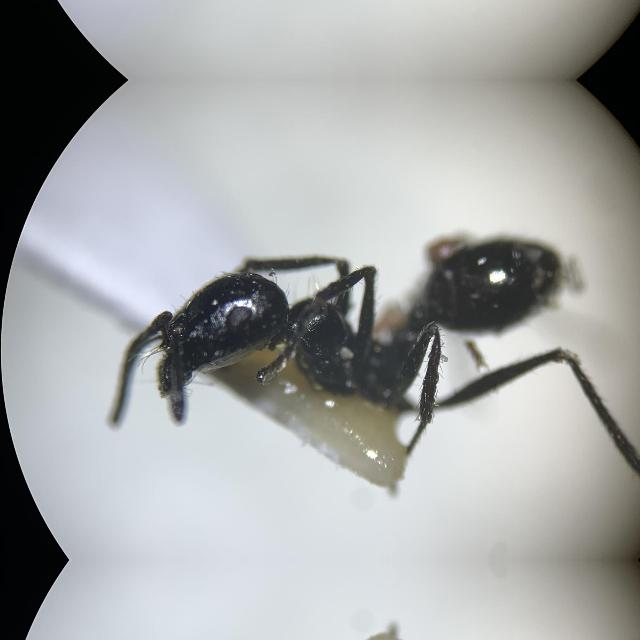Messor: (122, 178, 568, 448)
